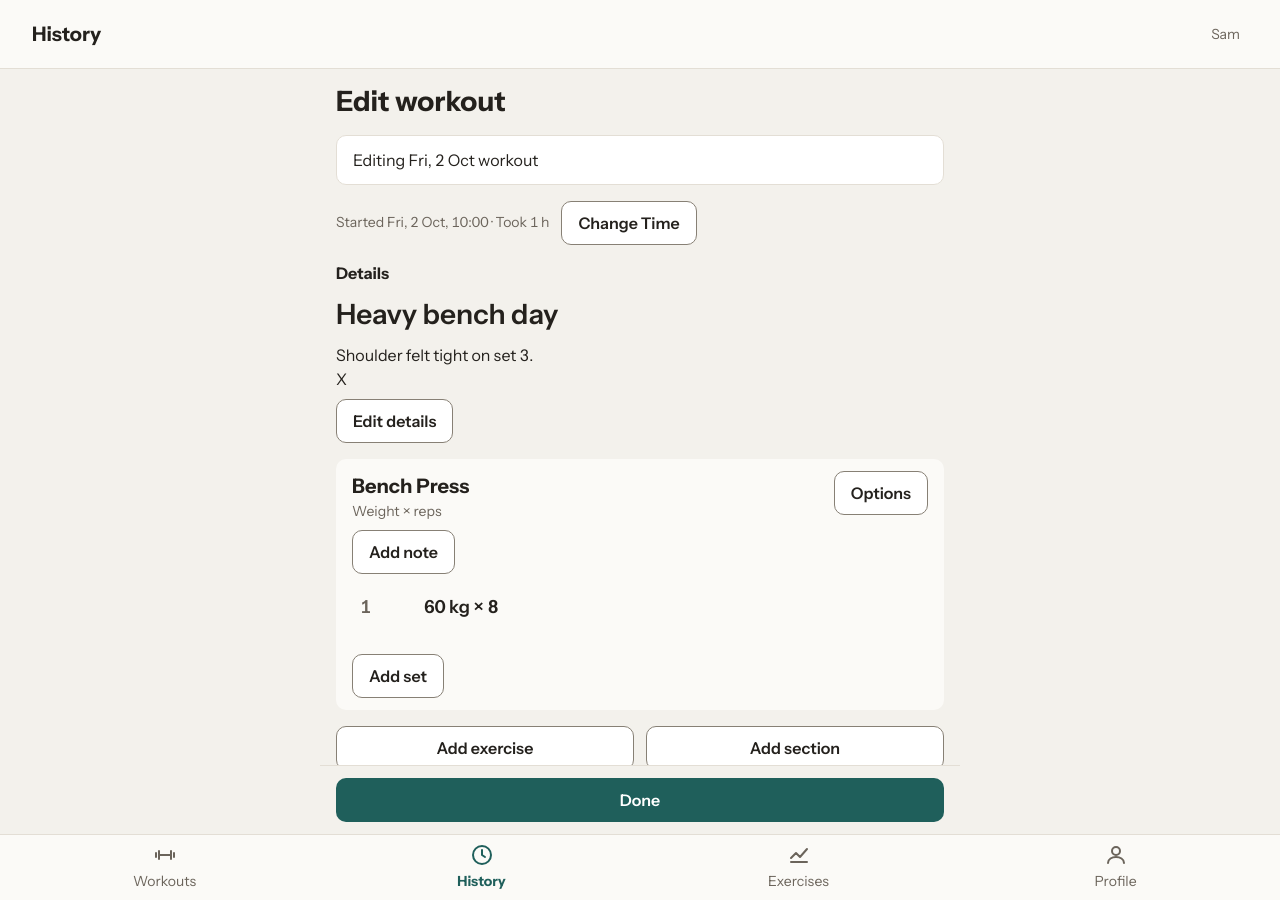
Scenario: 18.0 AC53 / AC54 — the Details sheet › Save sends only the changed key; on 200 the sheet closes, the panel and the cache show it, Details saved is spoken
The width and height of the screenshot is (1280, 900).
Check: the heading "Edit workout" is shown, box [336,84,506,118]
Click the button "Edit details".
click(395, 421)  # box [336,399,453,443]
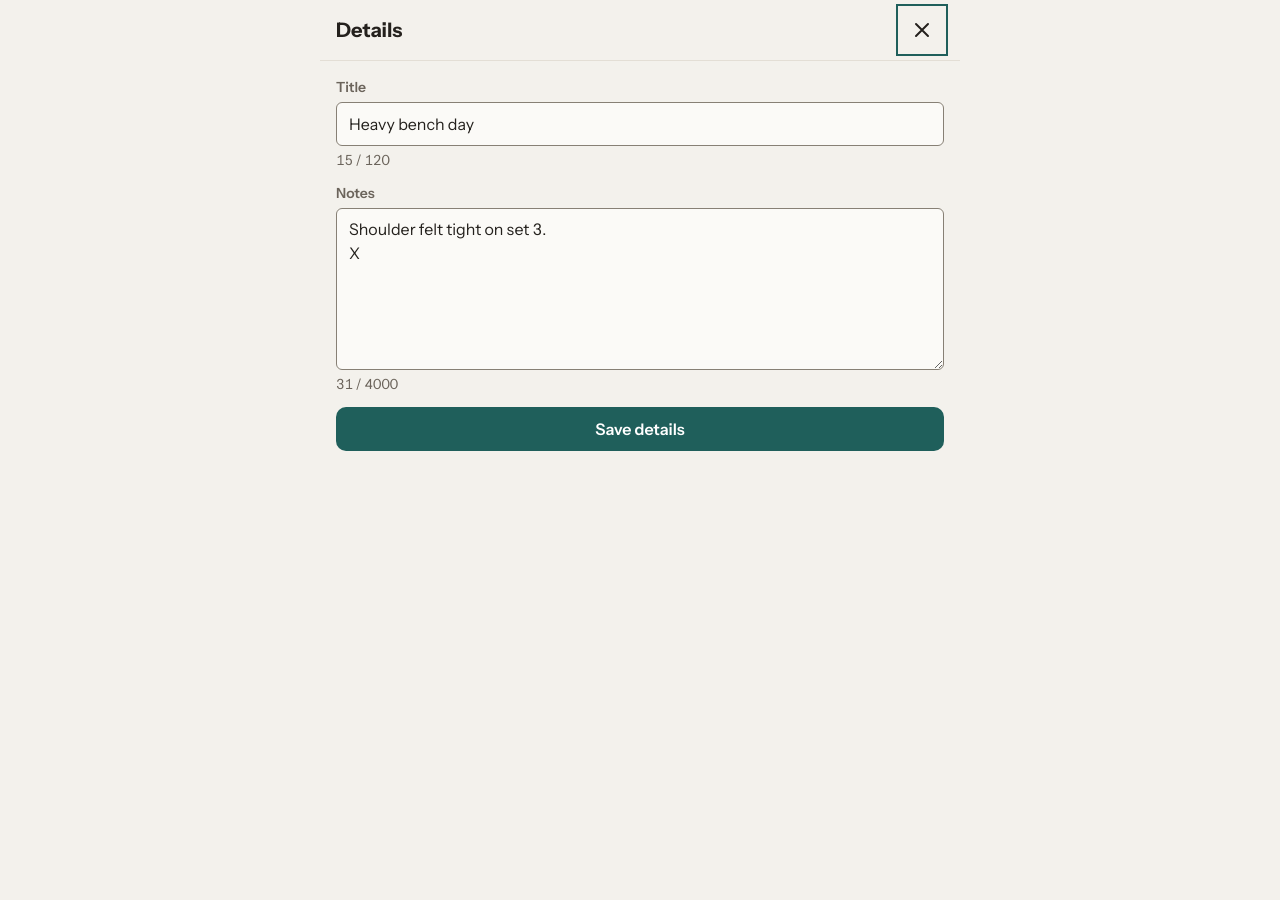
Replace the text in the field labelled "Title" with "Deload" at (640, 124), box [336,102,944,146]
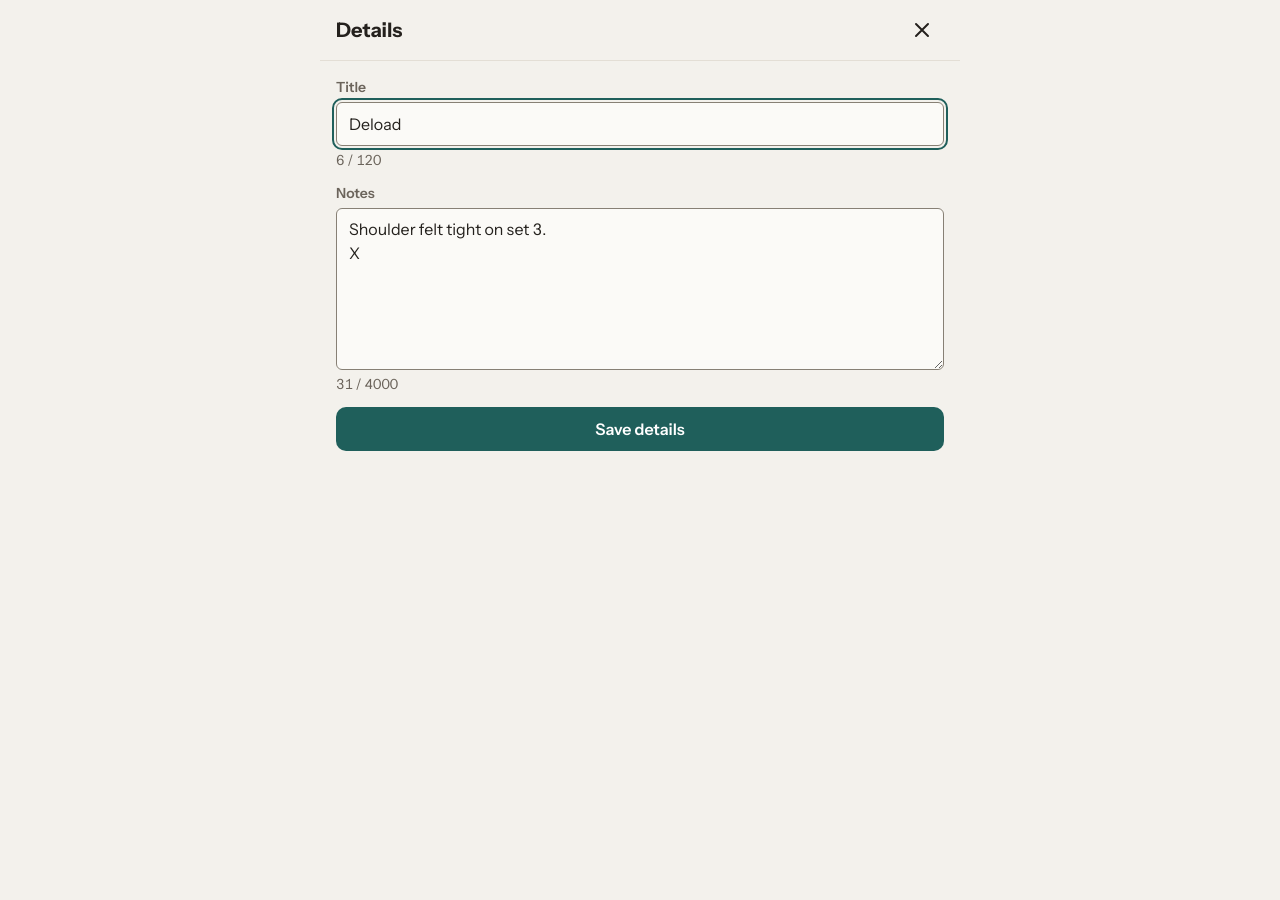
Click the button "Save details".
click(640, 429)  # box [336,407,944,451]
(page scrolled)
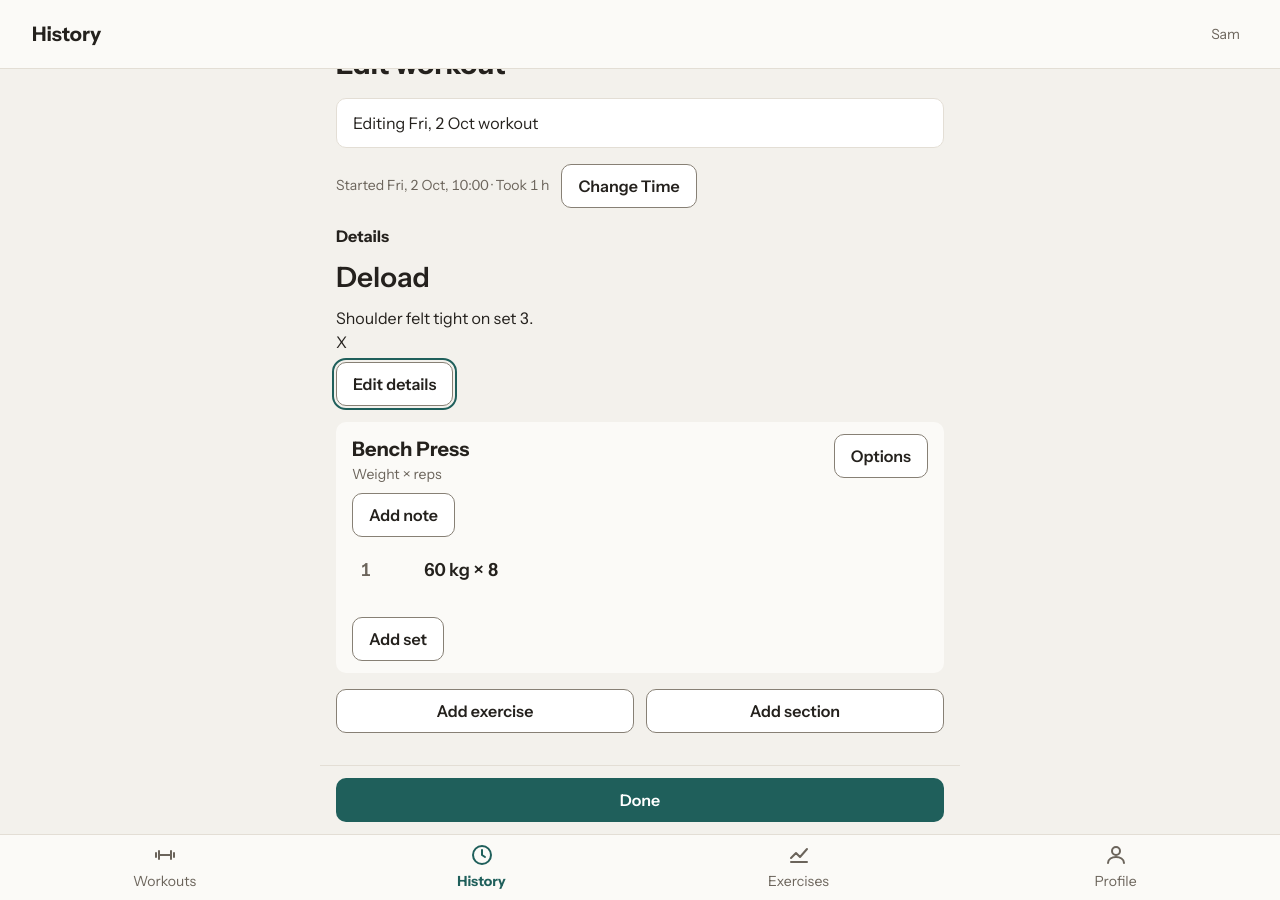
Check: the text "Deload" is shown, box [336,260,430,294]
